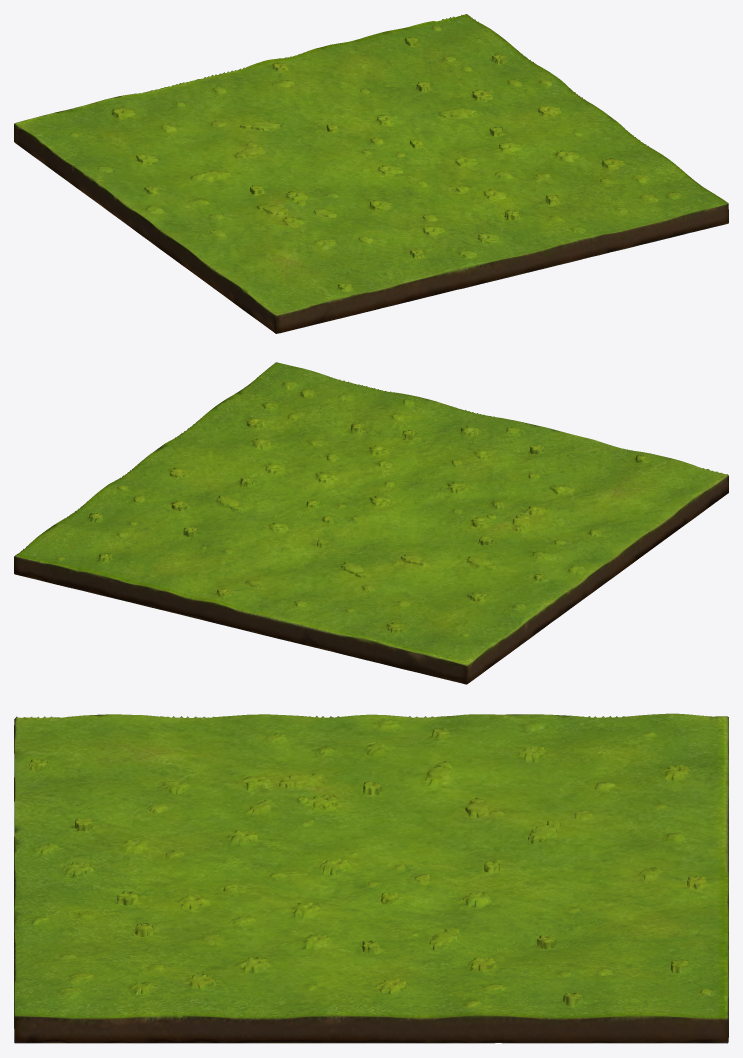
3 views of the same model, one above another, from view 1: azimuth 30°, elevation 25°; view 2: azimuth 150°, elevation 25°; view 3: azimuth 270°, elevation 25° (orthographic). The views are drawn at different scales.
Parts seen in each view (by area): view 1: tripo_node_7c27f5a0-3ca0-44db-af4d-9f014652c4fb; view 2: tripo_node_7c27f5a0-3ca0-44db-af4d-9f014652c4fb; view 3: tripo_node_7c27f5a0-3ca0-44db-af4d-9f014652c4fb.
Part boxes in pixels (x1,y1,x2,y2): tripo_node_7c27f5a0-3ca0-44db-af4d-9f014652c4fb: [14, 14, 728, 333]; tripo_node_7c27f5a0-3ca0-44db-af4d-9f014652c4fb: [14, 362, 728, 684]; tripo_node_7c27f5a0-3ca0-44db-af4d-9f014652c4fb: [14, 713, 728, 1043].
Size of the model in its own units: 0.9979 by 0.0519 by 1.
1 material, 1 textured.
